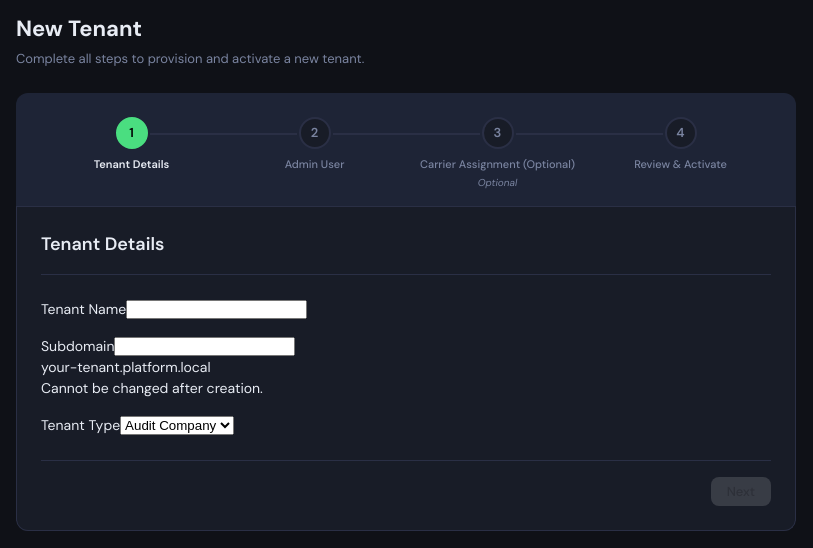
Test: TenantCreationWizard › step 1: subdomain preview updates live with slug input
Type "mycompany" into the field labelled "Subdomain".
click(205, 346); type("mycompany")  # box [114,337,296,356]
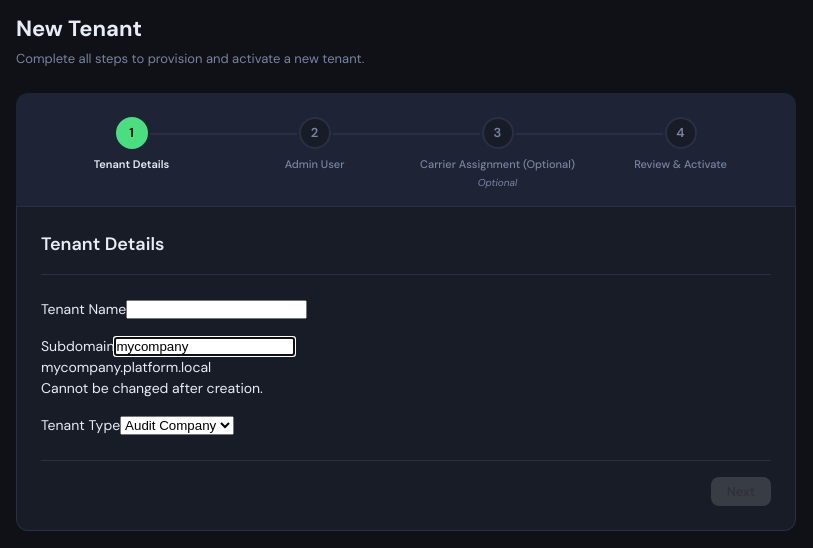
Now the text "mycompany.platform.local" is shown, box [41,358,211,376]
